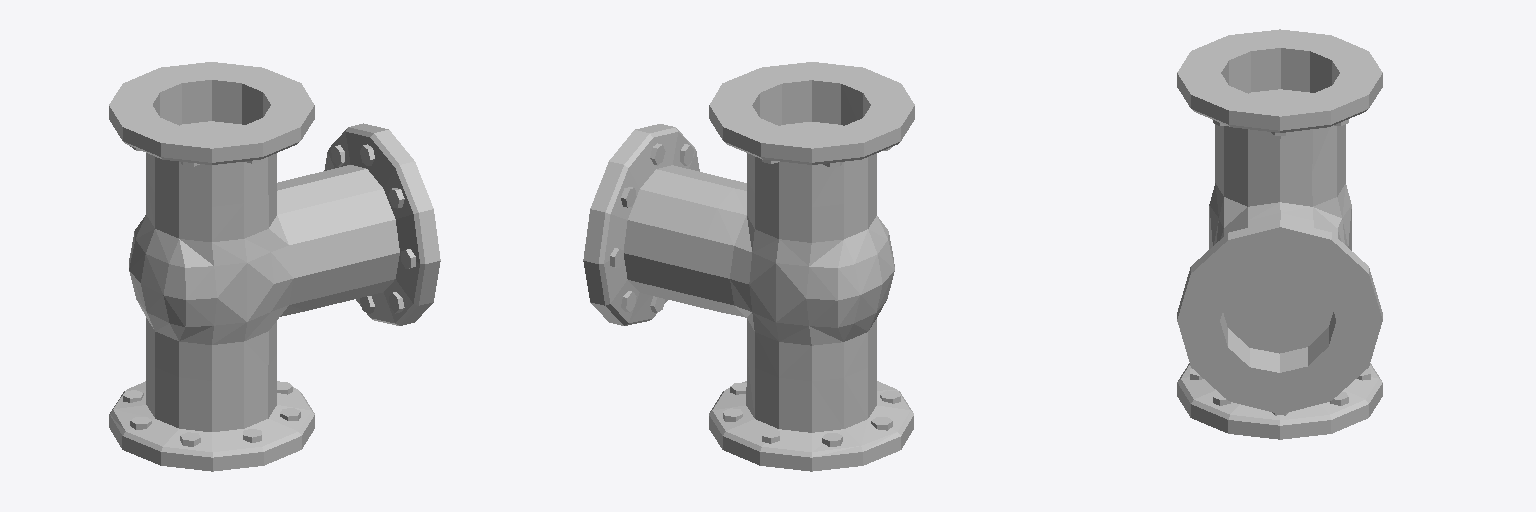
Rendered from modular_industrial_pipes_01-06.obj.
The picture shows the model from 3 angles: view 1: azimuth 30°, elevation 25°; view 2: azimuth 150°, elevation 25°; view 3: azimuth 270°, elevation 25°; orthographic projection.
Parts seen in each view (by area): view 1: modular_industrial_pipes_01_pipe06; view 2: modular_industrial_pipes_01_pipe06; view 3: modular_industrial_pipes_01_pipe06.
Boxes of the visible parts, x1,y1,x2,y2 form: modular_industrial_pipes_01_pipe06: [109, 62, 440, 471]; modular_industrial_pipes_01_pipe06: [583, 62, 914, 471]; modular_industrial_pipes_01_pipe06: [1177, 29, 1382, 439].
Bounding box in the file's own units: 0.3087 × 0.3576 × 0.2064.